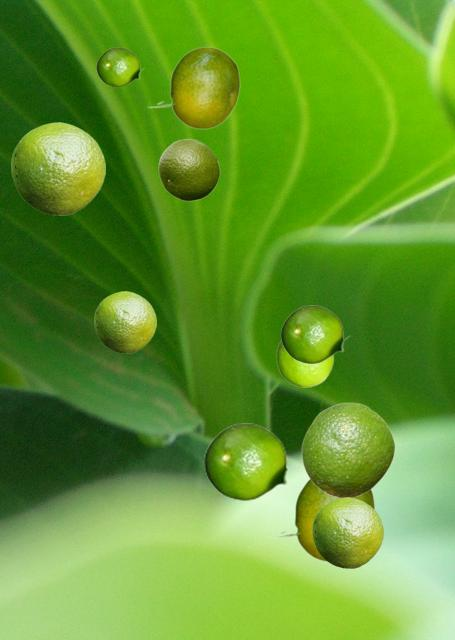calamansi: (267, 478, 374, 561), (301, 402, 394, 497), (11, 122, 104, 214), (146, 46, 239, 128), (203, 423, 296, 500), (312, 497, 382, 567), (280, 305, 350, 363), (158, 138, 219, 200), (94, 291, 155, 352), (276, 339, 333, 386), (96, 47, 144, 86)
